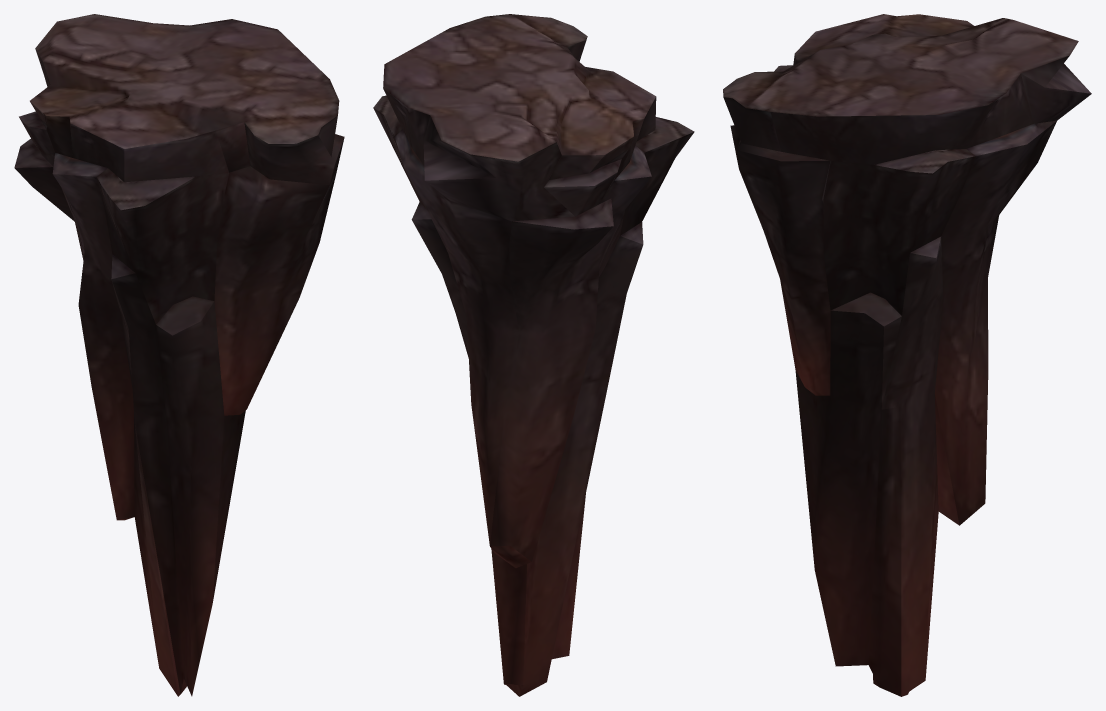
The model's file is sysd_stone03.FBX.
The picture shows the model from 3 angles, left to right: view 1: azimuth 30°, elevation 25°; view 2: azimuth 150°, elevation 25°; view 3: azimuth 270°, elevation 25°; orthographic projection. The views are drawn at different scales.
Parts seen in each view (by area): view 1: sysd_stone03; view 2: sysd_stone03; view 3: sysd_stone03.
Part boxes in pixels (box(x1,y1,x2,y2)): sysd_stone03: box(14, 14, 344, 696); sysd_stone03: box(373, 14, 694, 696); sysd_stone03: box(723, 14, 1091, 696).
Size of the model in its own units: 677 by 1515 by 790.
1 material, 1 textured.
